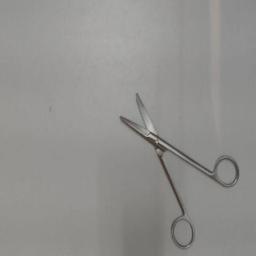Curved Mayo Scissors: (114, 84, 242, 254)
